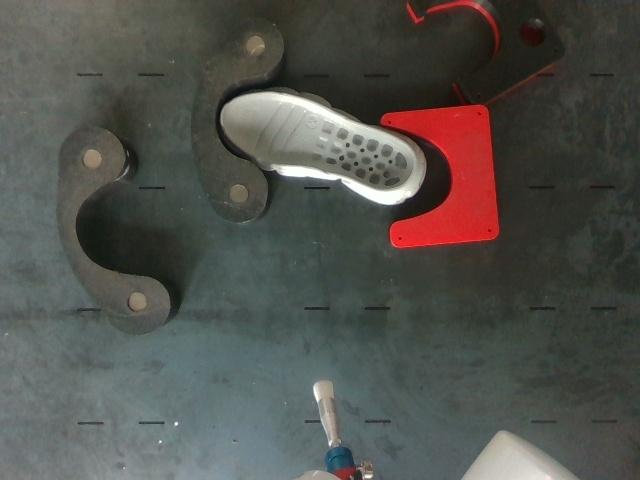shoes: (221, 93, 414, 191)
